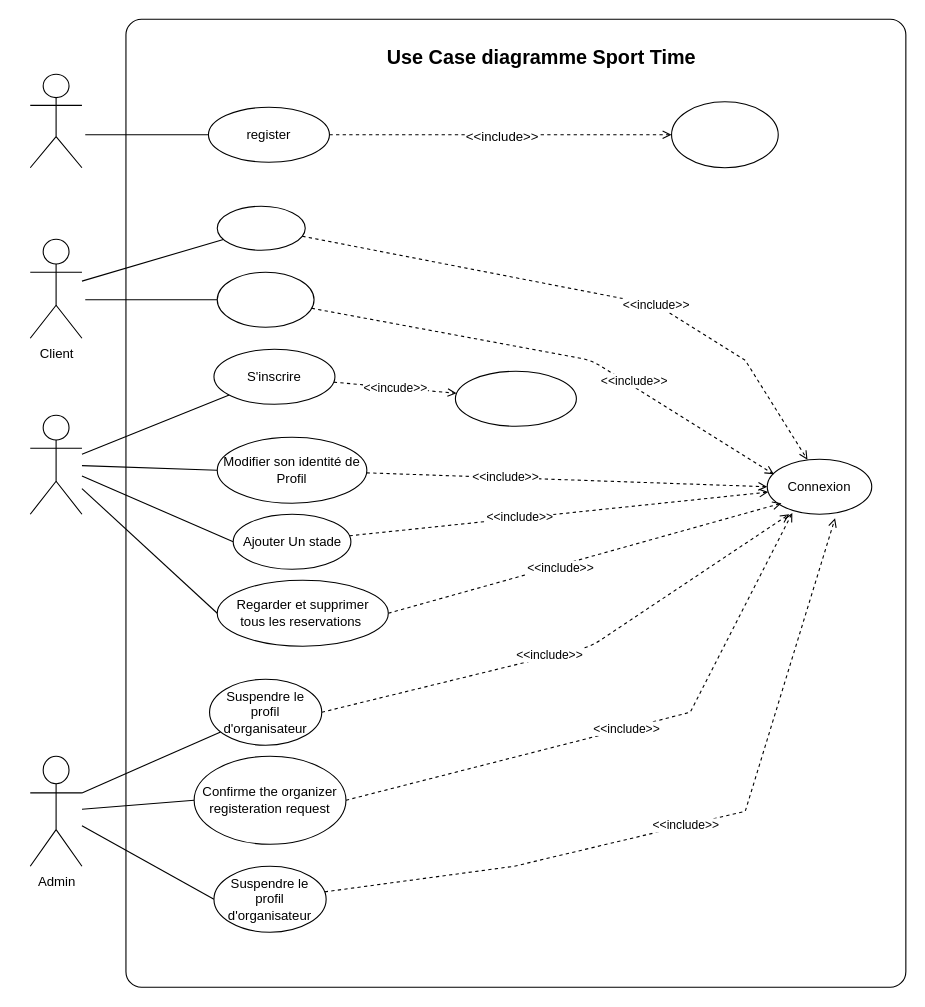
This 925x1007 diagram has some shape labels left out. Each missing label, with the centre of its shape:
"Contacter Admin" goes at [265,299].
"organisateur" goes at [55,464].
"remplir le formulaire d'inscription" goes at [724,134].
"Remplir le formulaire de demande" goes at [515,398].
"Reserve" goes at [260,227].
"Utilisateur" goes at [55,120].
